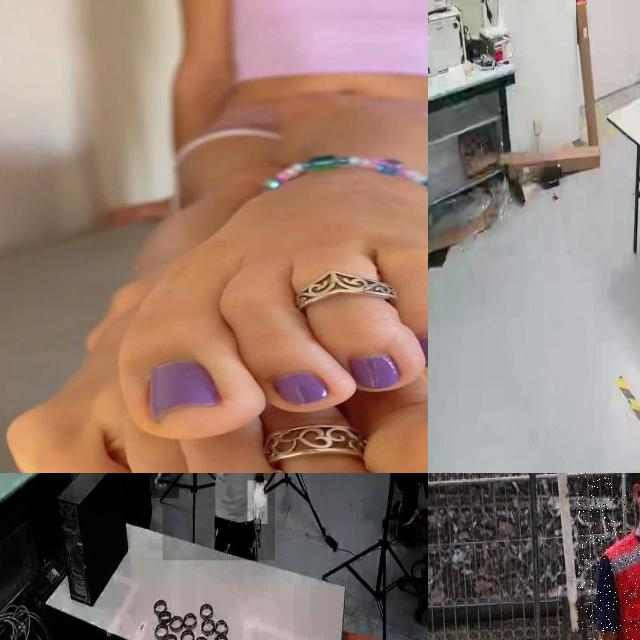Barefoots: (121, 107, 428, 442), (0, 283, 428, 473)
hand_glove: (248, 480, 268, 525), (150, 473, 179, 498)
person: (576, 473, 640, 640), (162, 473, 275, 561)
